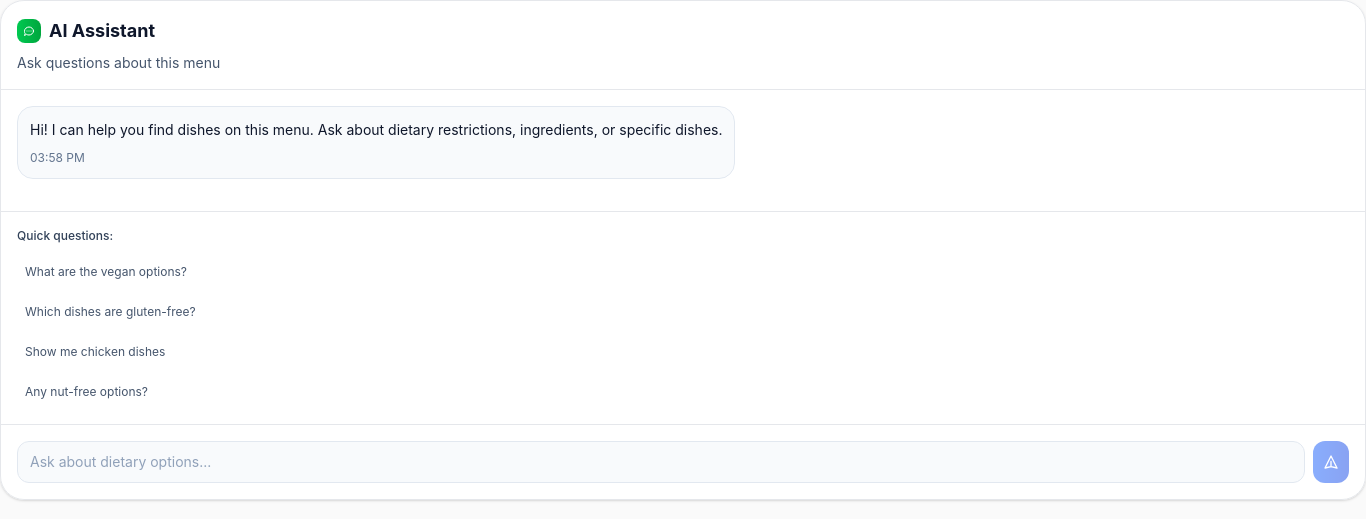
ChatInterface › disables input and button while loading
The image size is (1366, 519).
Step 1. Type "Test message" into the field with placeholder "Ask about dietary options..." → [661, 462], box [17,441,1305,483]
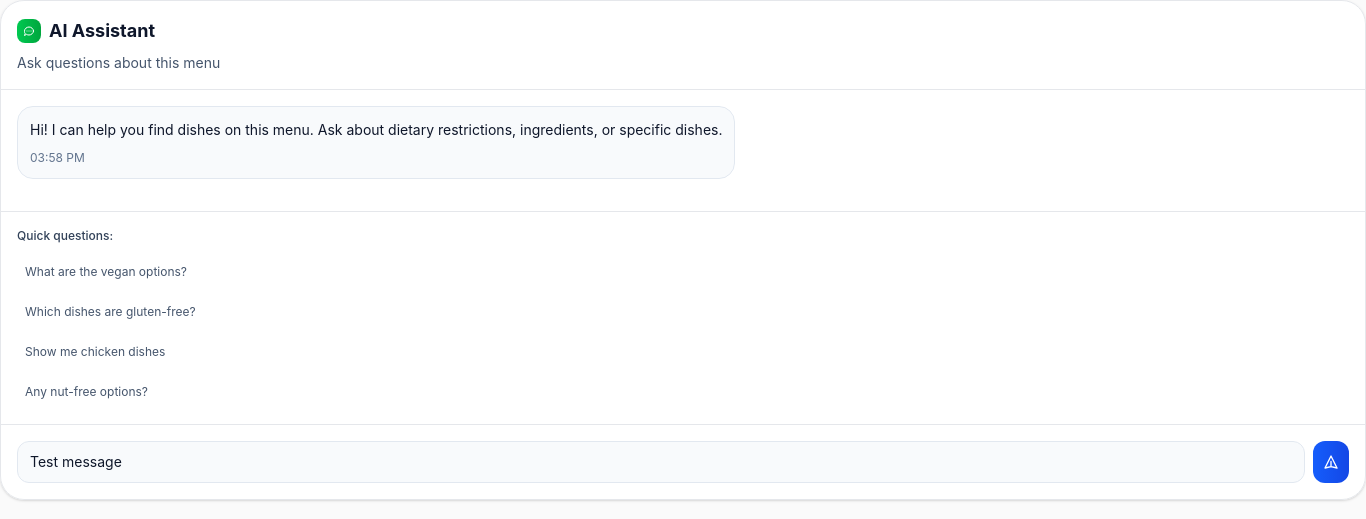
Step 2. Click the 5th button → [1331, 462], box [1313,441,1349,483]
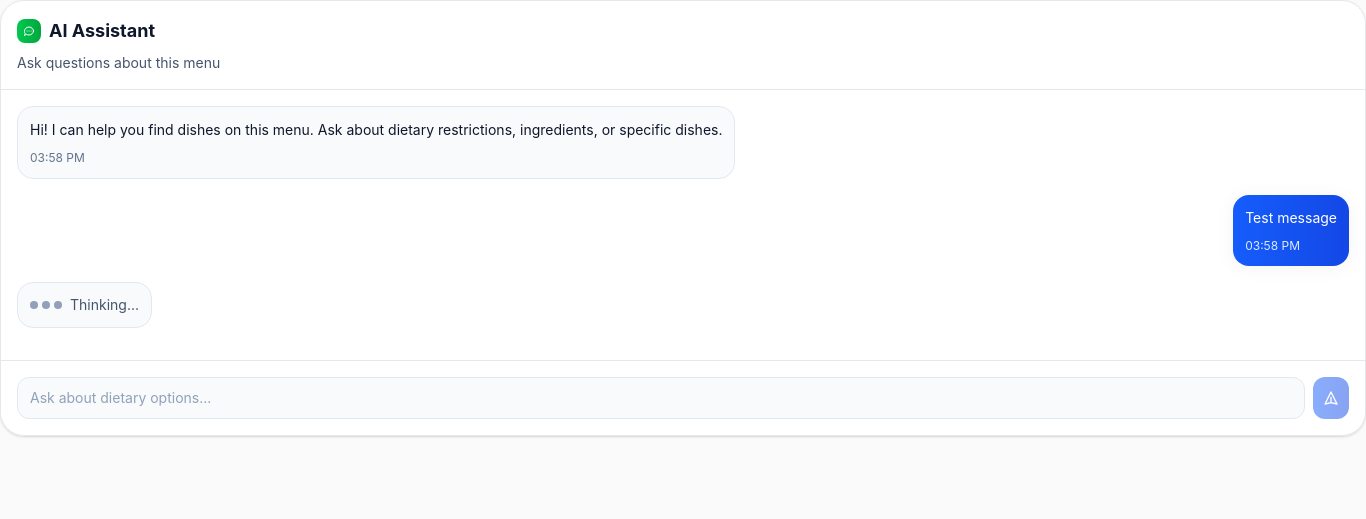
Check: the field with placeholder "Ask about dietary options..." is disabled, box [17,376,1305,418]
Check: the button is disabled, box [1313,376,1349,418]
